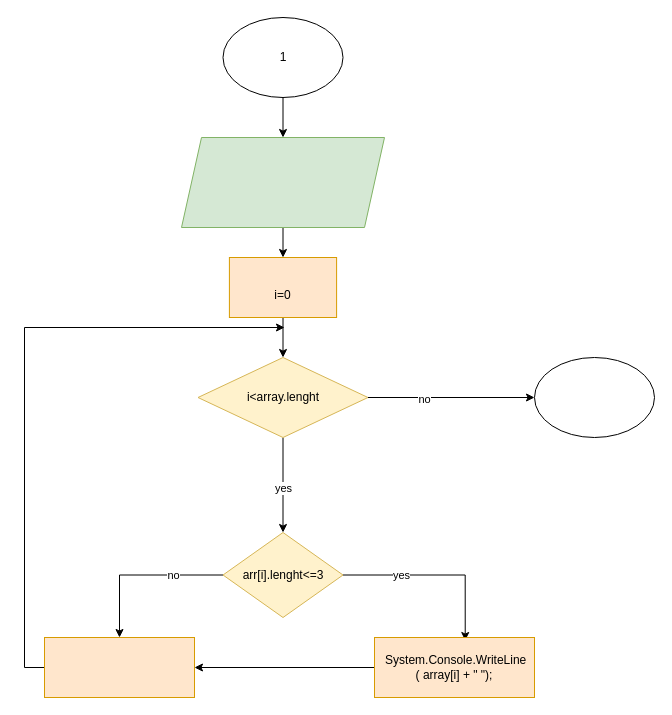
The diagram is 672 pixels wide and 715 high, and some of its shapes have lost their labels. Each missing label, with the centre of its shape:
arr[5]=[5; -100; stray; -7;main]: (282,182)
End: (594,397)
i++: (119,667)
